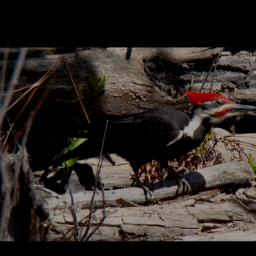Woodpecker: (32, 89, 256, 201)
